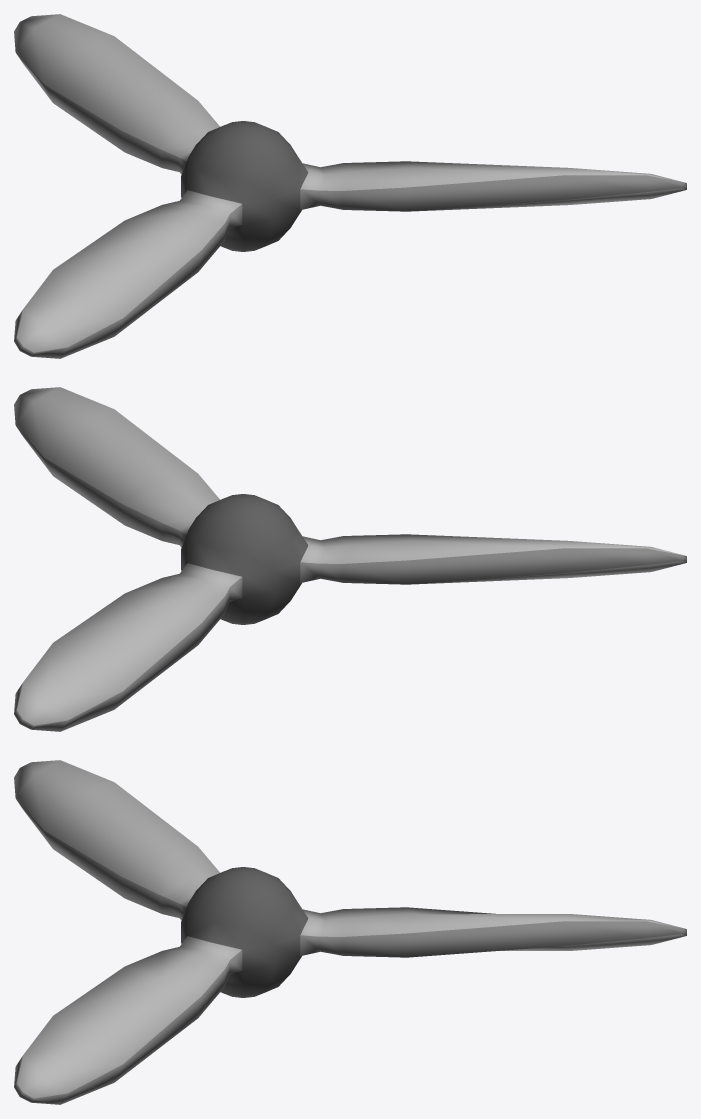
Rendered from Propeller.glb.
The picture shows the model from 3 angles, top to bottom: view 1: azimuth 30°, elevation 25°; view 2: azimuth 150°, elevation 25°; view 3: azimuth 270°, elevation 25°; orthographic projection.
Parts seen in each view (by area): view 1: Sphere; view 2: Sphere; view 3: Sphere.
Part boxes in pixels (x1=…): Sphere: x1=14, y1=14, x2=686, y2=358; Sphere: x1=14, y1=387, x2=686, y2=731; Sphere: x1=14, y1=760, x2=686, y2=1104.
Size of the model in its own units: 2.86 by 0.4917 by 2.49.
Materials: 1 (1 with a texture image).
